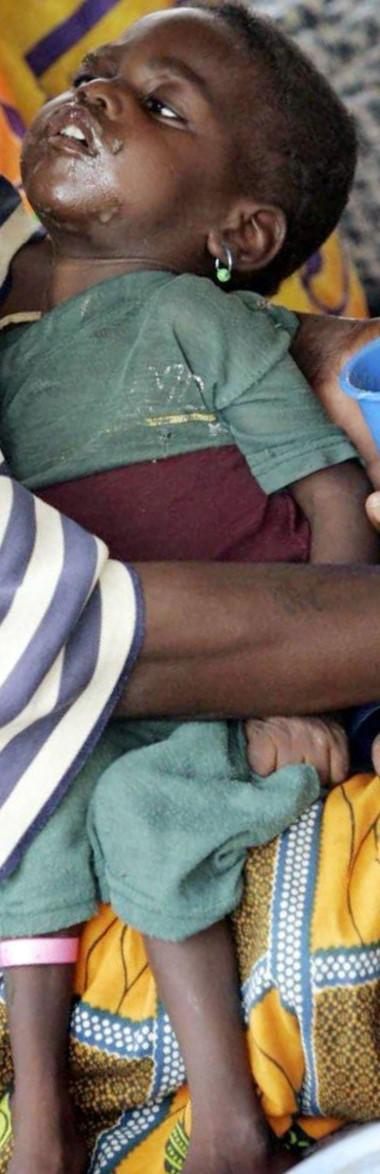Stunting: (0, 17, 380, 360)
